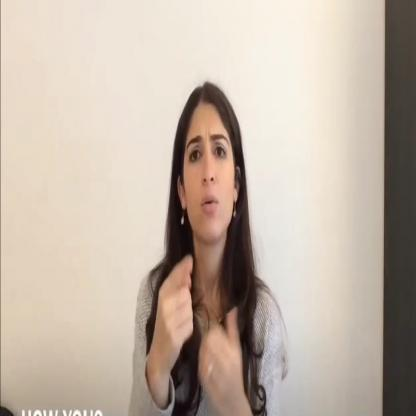HowAreYou: (153, 255, 250, 399)
